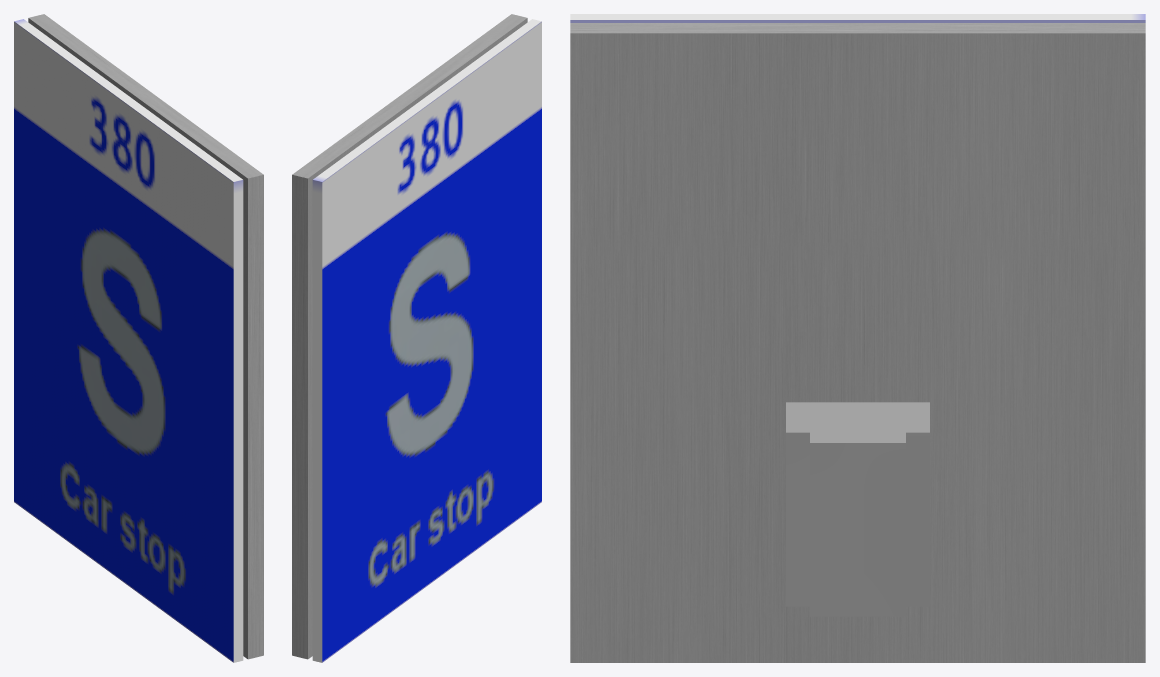
The model's file is s_car_stop_380.obj.
3 views of the same model, side by side, from view 1: azimuth 30°, elevation 25°; view 2: azimuth 150°, elevation 25°; view 3: azimuth 270°, elevation 25° (orthographic). The views are drawn at different scales.
Parts seen in each view (by area): view 1: cube; view 2: cube; view 3: cube.
Part boxes in pixels (<box>): cube: <box>14,14,263,662</box>; cube: <box>292,14,541,662</box>; cube: <box>570,14,1145,662</box>.
Bounding box in the file's own units: 0.0922 × 0.4531 × 0.375.
2 materials, 2 textured.
